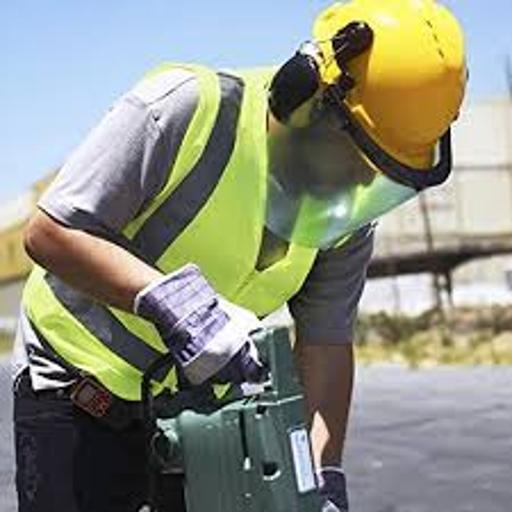Hard_hat: (305, 1, 494, 192)
Humans: (25, 65, 316, 512)
Visor: (20, 63, 358, 446)
